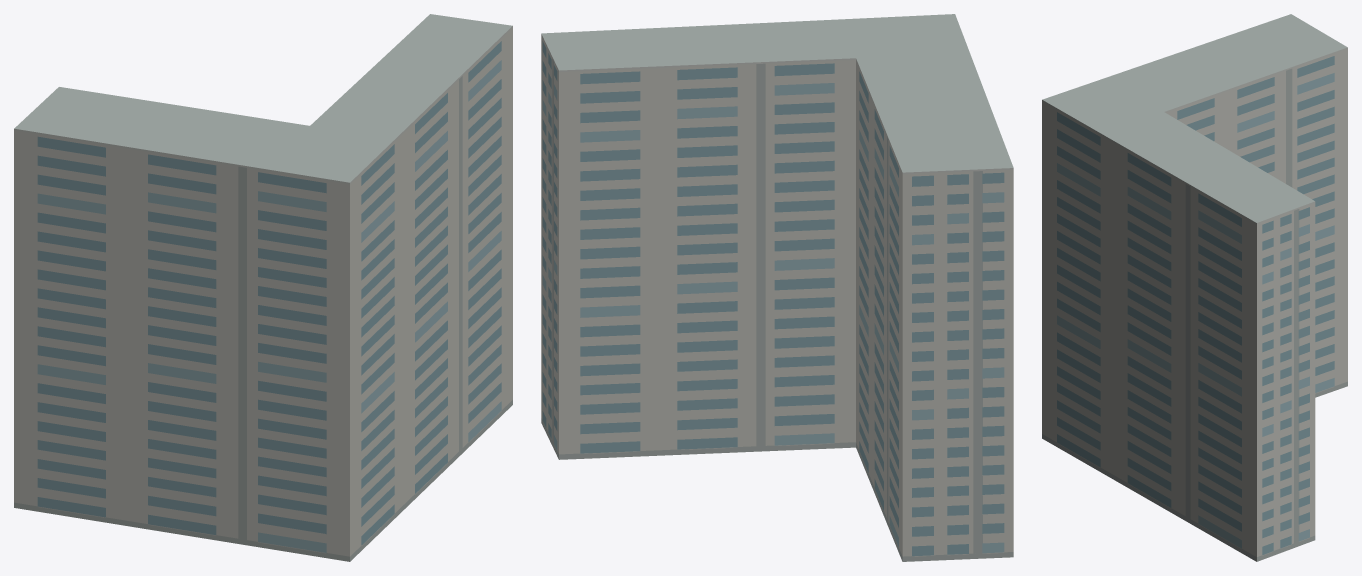
The model's file is residential-74480bbd-df7a-4bfc-bfd5-5e2b5407863f.glb.
The picture shows the model from 3 angles, left to right: view 1: azimuth 30°, elevation 25°; view 2: azimuth 150°, elevation 25°; view 3: azimuth 270°, elevation 25°; orthographic projection. The views are drawn at different scales.
Parts seen in each view (by area): view 1: residential-74480bbd-df7a-4bfc-bfd5-5e2b5407863f.tmp; view 2: residential-74480bbd-df7a-4bfc-bfd5-5e2b5407863f.tmp; view 3: residential-74480bbd-df7a-4bfc-bfd5-5e2b5407863f.tmp.
Part boxes in pixels (bbox=[...]): residential-74480bbd-df7a-4bfc-bfd5-5e2b5407863f.tmp: bbox=[14, 14, 512, 561]; residential-74480bbd-df7a-4bfc-bfd5-5e2b5407863f.tmp: bbox=[541, 14, 1013, 561]; residential-74480bbd-df7a-4bfc-bfd5-5e2b5407863f.tmp: bbox=[1042, 14, 1347, 561].
Size of the model in its own units: 71.46 by 54 by 44.17.
